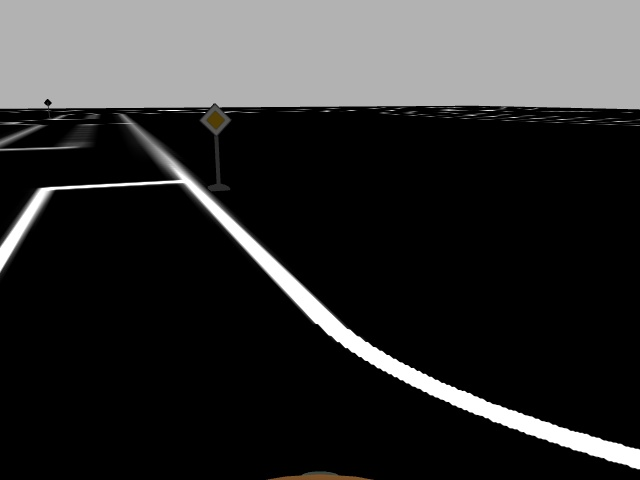priority: (199, 103, 231, 137)
